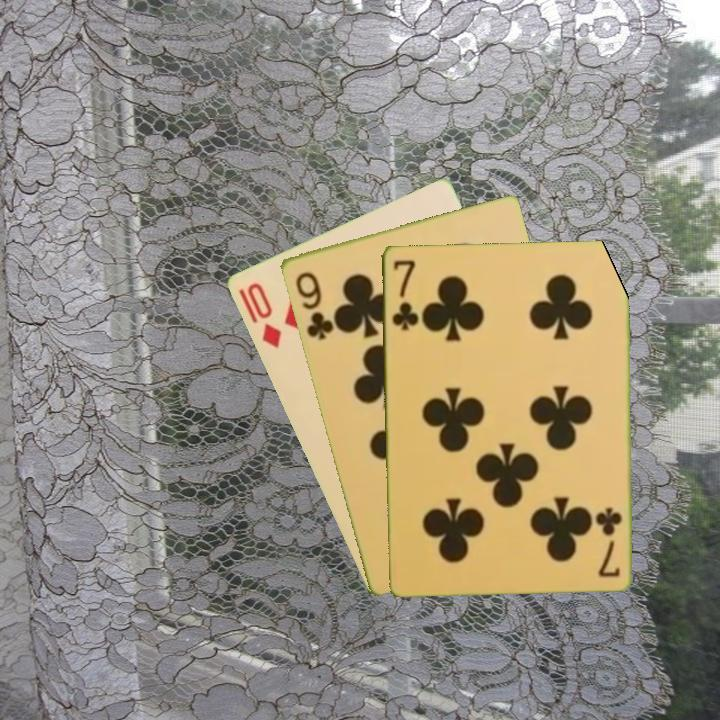10d: (243, 279, 284, 351)
7c: (388, 256, 419, 333), (595, 504, 625, 579)
9c: (291, 268, 336, 343)
